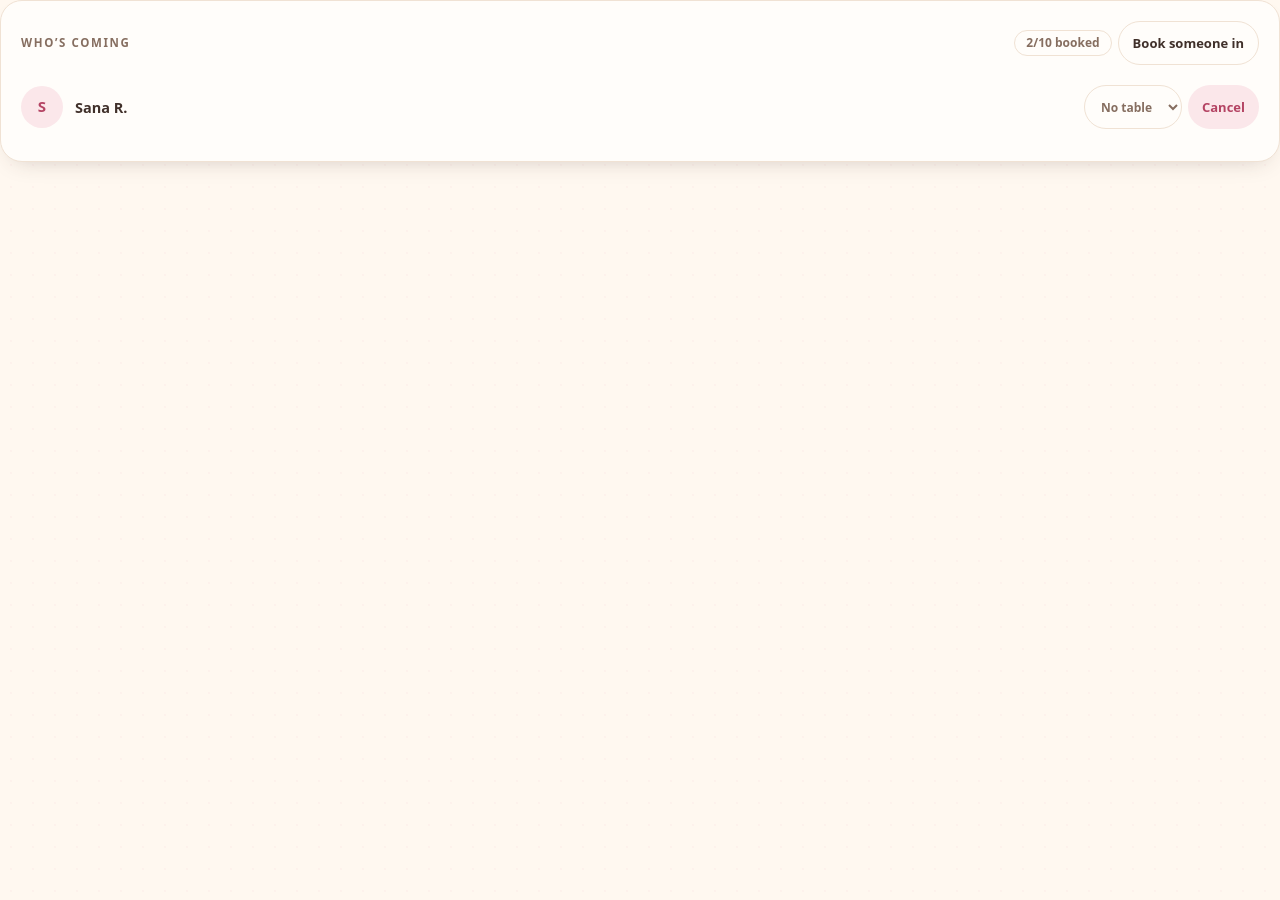
Test: SessionRoster · booking someone in › leaves out guests who are already in the class
This screenshot has width=1280, height=900.
Click the button "Book someone in". click: {"x": 1188, "y": 43}
box: [1118, 21, 1259, 65]
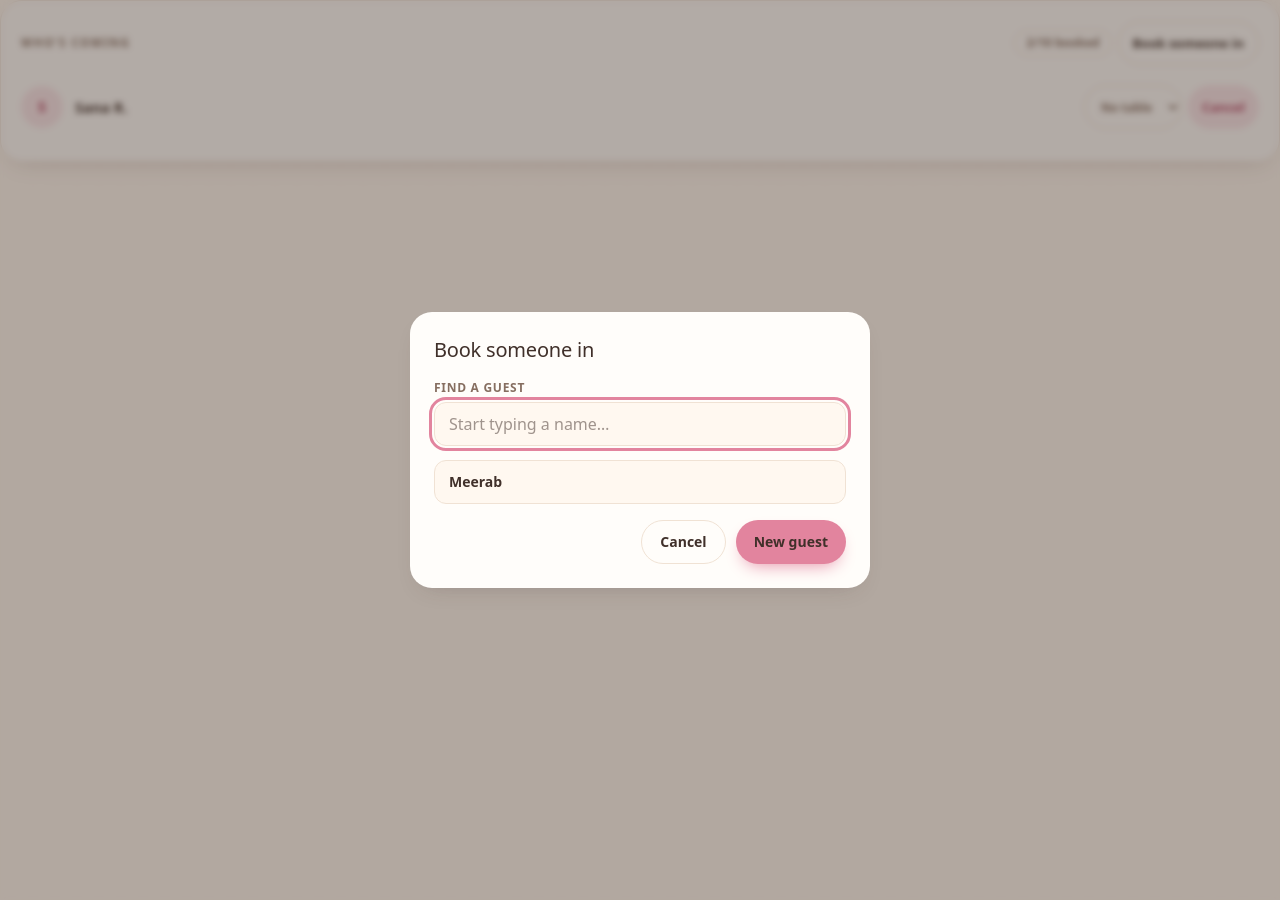
Expected: the field labelled "Find a guest" is shown, [434, 402, 846, 446]
Expected: the button "Meerab" is shown, [434, 460, 846, 504]
